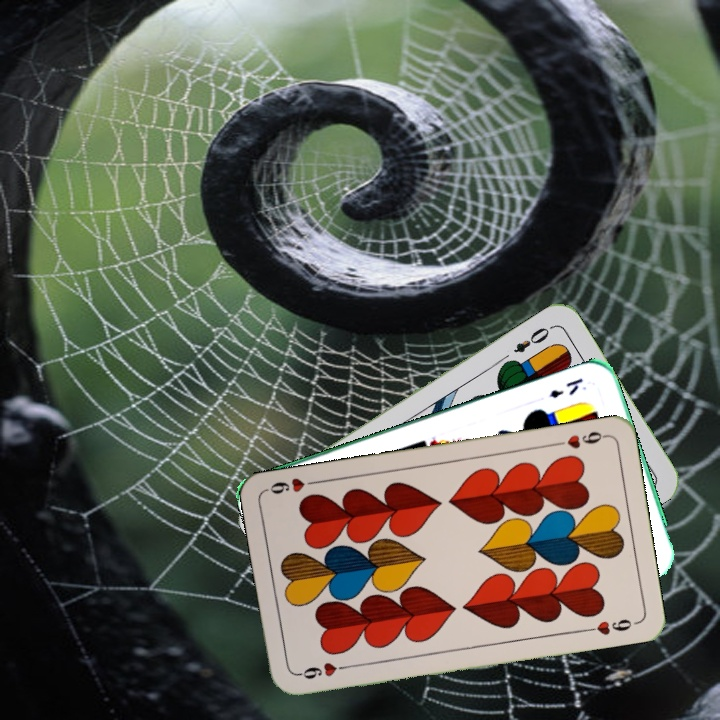EK: (545, 374, 586, 401)
EO: (509, 321, 556, 356)
H9: (551, 427, 610, 451), (294, 658, 353, 682)
